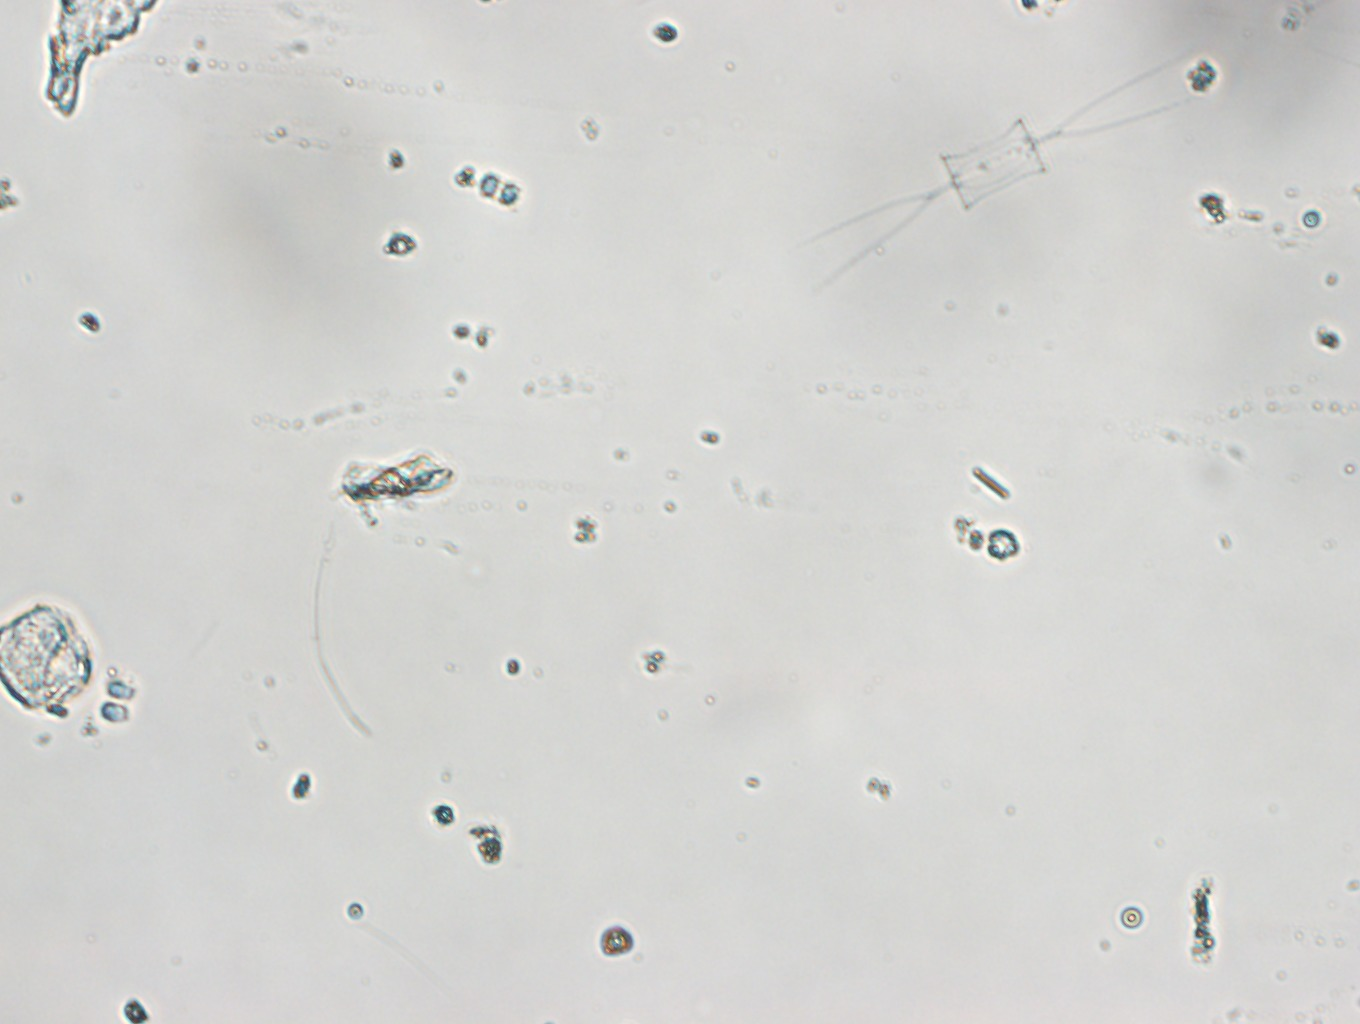chaetoceros: (820, 61, 1190, 290)
